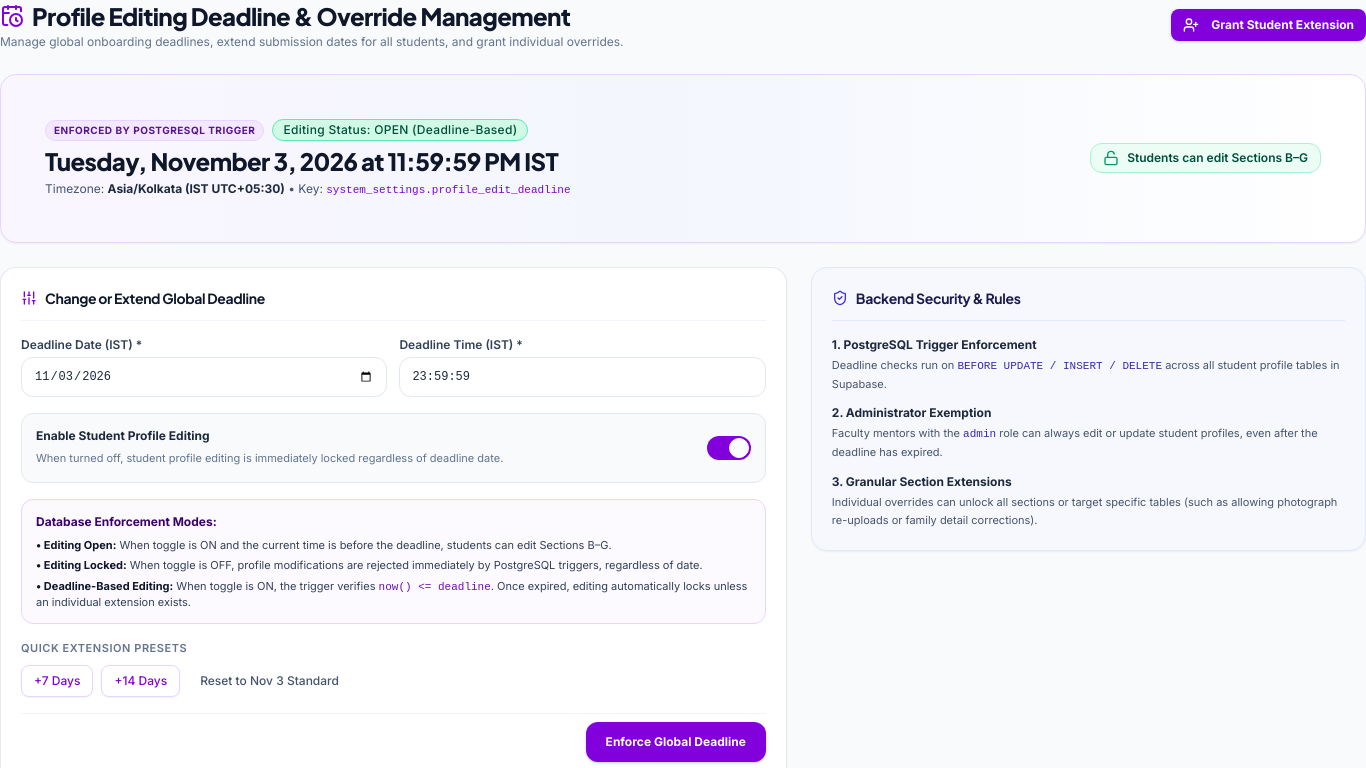
Test case: Mentor Connect — Initial Admin Dashboard Cleanup & Mentor Contact Information › PART D — Profile Deadline Management › renders confirmed November 3 deadline and makes the 3 editing states explicit
Expected: the heading "Tuesday, November 3, 2026 at 11:59:59 PM IST" is shown, [45,145,570,177]
Expected: the text "Editing Status: OPEN (Deadline-Based)" is shown, [272,119,528,141]
Note: Grant Student Extension modal opens
Click the button "Grant Student Extension".
click(1269, 25)  # box [1171,9,1365,41]
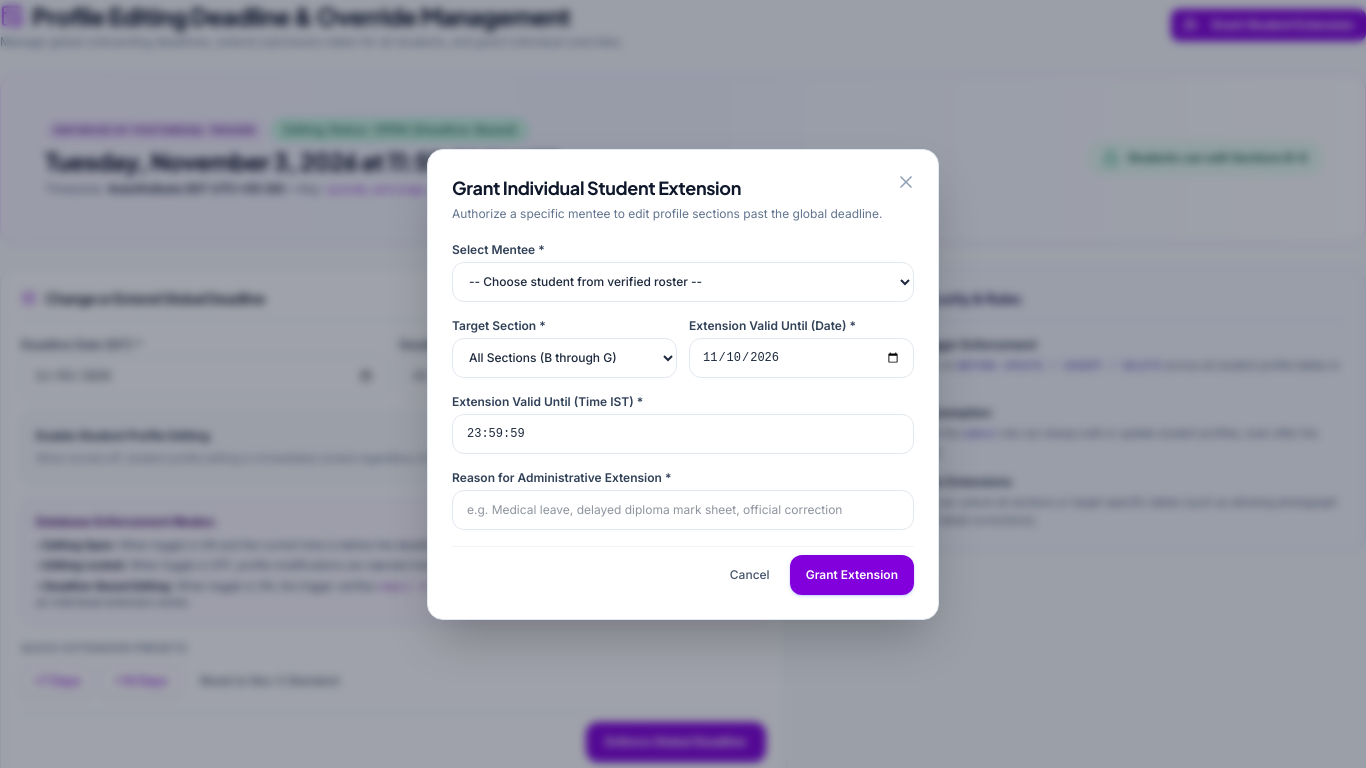
Expected: the heading "Grant Individual Student Extension" is shown, [452,176,741,198]
Expected: the text "Select Mentee *" is shown, [452,242,545,256]
Expected: the text "Target Section *" is shown, [452,318,546,332]
